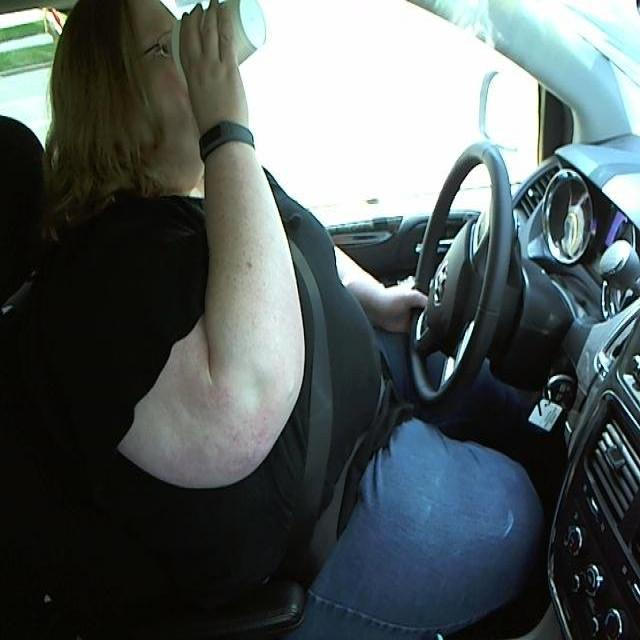drinking: (174, 0, 268, 82)
